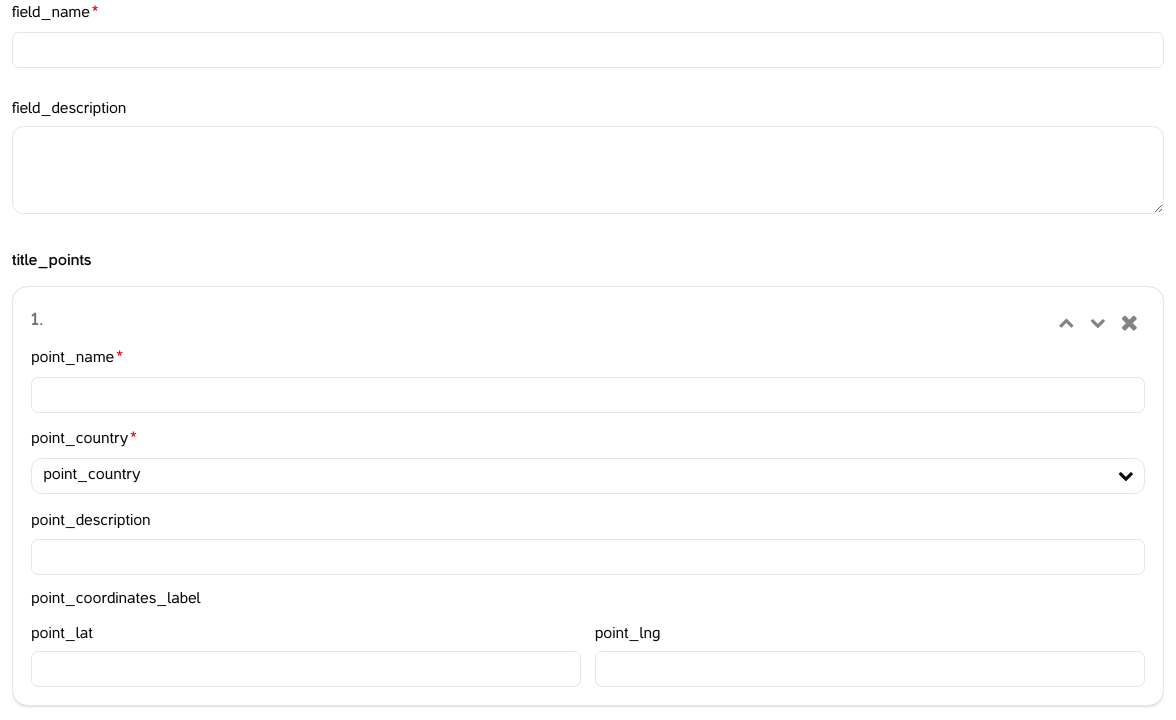
Test: Submission outcomes › CAM-FE-24: 400 response shows generic error, retains form values
Check: the dropdown is shown, box left=31, top=458, right=1145, bottom=494
In the field labelled "field_name": (588, 50) left=12, top=32, right=1164, bottom=68, type "Camino Francés"
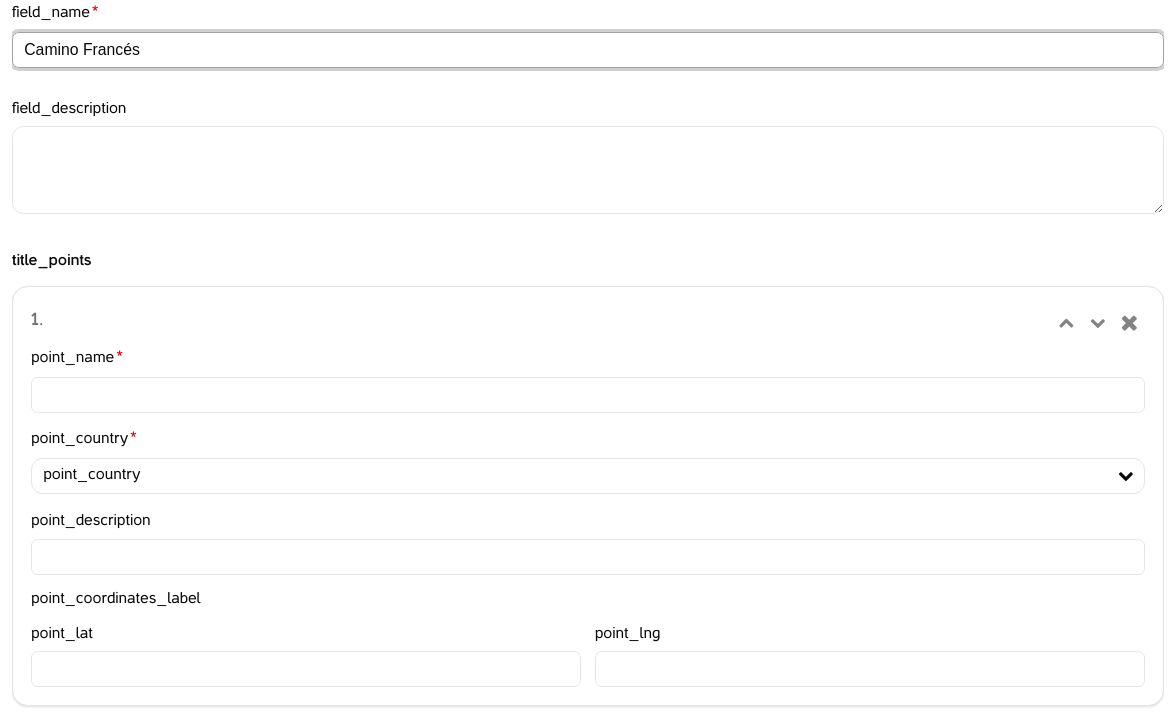
In the field labelled "point_name": (588, 394) left=31, top=376, right=1145, bottom=412, type "Saint-Jean-Pied-de-Port"
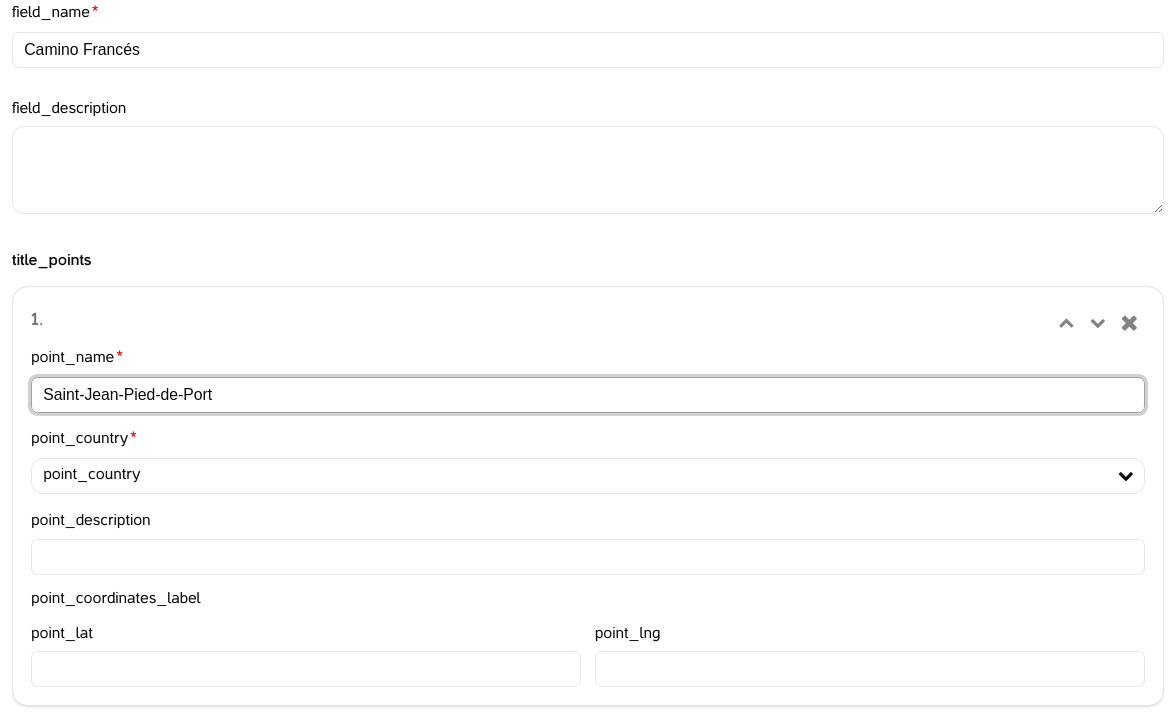
Select "france" in the dropdown labelled "point_country": (588, 476) left=31, top=458, right=1145, bottom=494
(page scrolled)
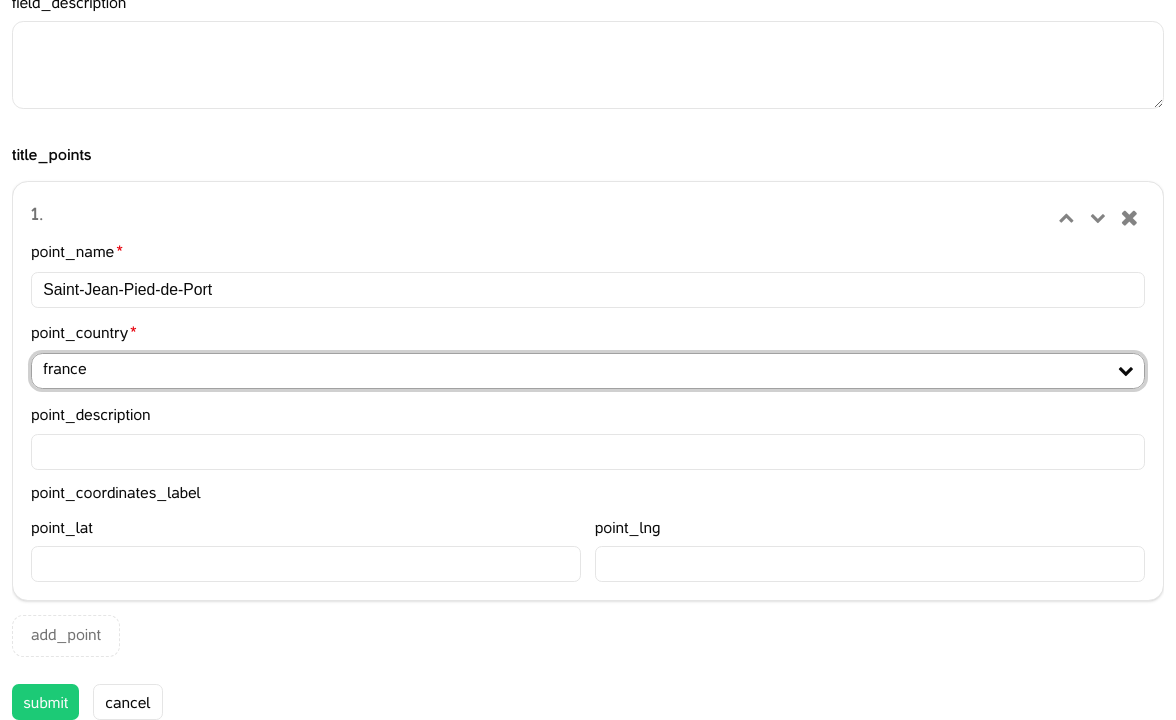
Click the button "submit": (46, 702) left=12, top=684, right=79, bottom=719
(page scrolled)
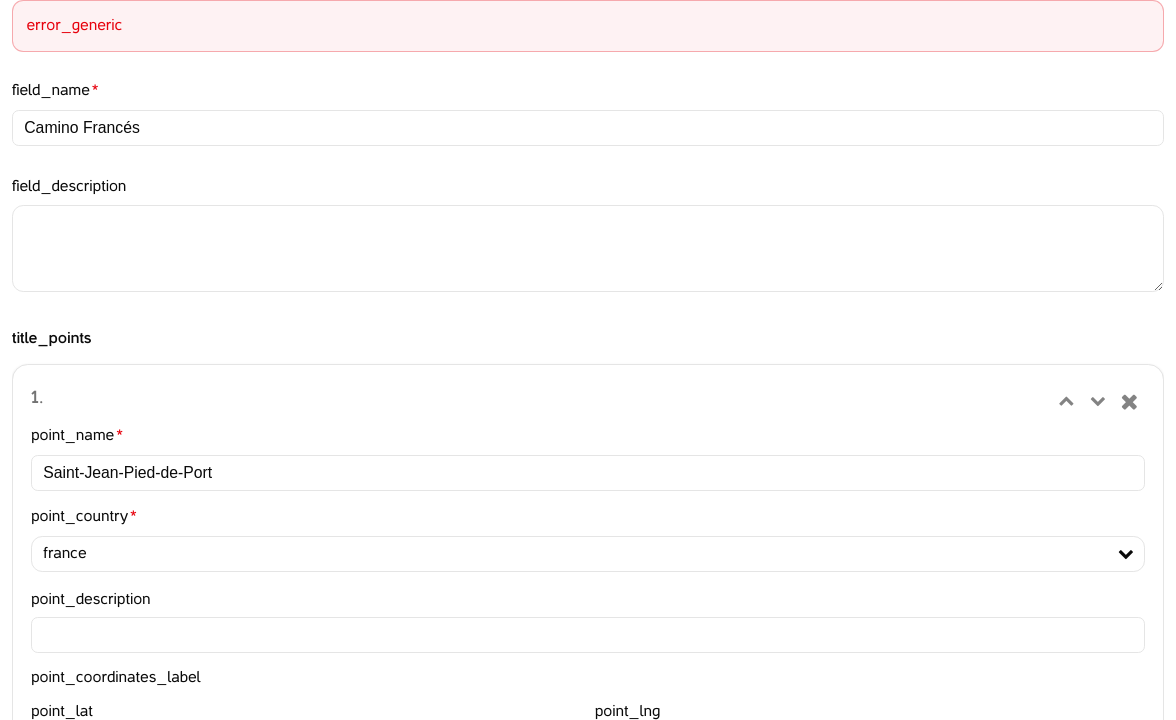
Check: the message reads "error_generic", box left=26, top=18, right=122, bottom=32
